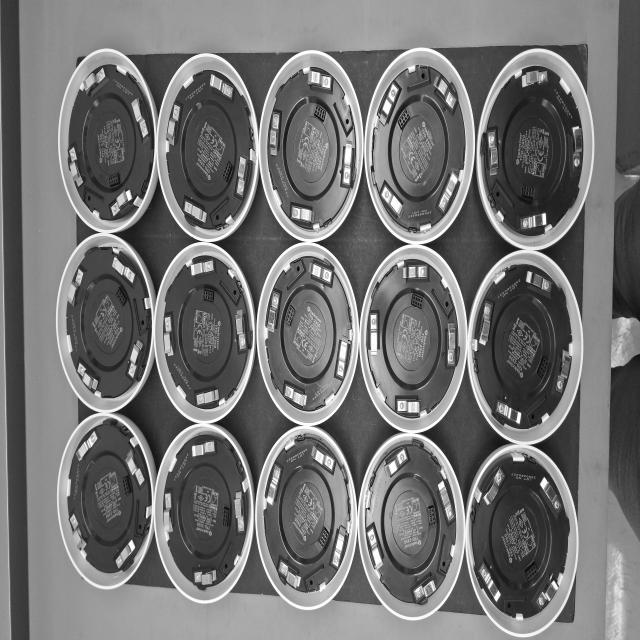yayli: (376, 80, 401, 126), (380, 180, 405, 221), (438, 170, 460, 216), (540, 473, 564, 514), (478, 562, 501, 604), (483, 466, 506, 507), (534, 574, 559, 610), (366, 524, 384, 570), (330, 524, 348, 570), (307, 258, 335, 287), (334, 337, 352, 382), (384, 446, 409, 478), (435, 73, 456, 111), (555, 351, 572, 397), (311, 443, 336, 474), (278, 558, 302, 590), (131, 98, 149, 140), (114, 537, 136, 570), (77, 429, 99, 462), (478, 301, 494, 346), (112, 256, 135, 287), (526, 270, 554, 295), (127, 339, 144, 380), (439, 480, 455, 523), (126, 450, 145, 486), (496, 400, 522, 426), (234, 154, 249, 199), (267, 288, 282, 333), (82, 68, 106, 96), (340, 141, 354, 189), (266, 464, 282, 506), (69, 513, 87, 550), (77, 361, 98, 392), (284, 382, 308, 409), (412, 575, 436, 602), (110, 189, 133, 217), (68, 267, 84, 307), (183, 198, 207, 224), (68, 146, 83, 186), (210, 74, 233, 100), (487, 128, 499, 176), (308, 69, 332, 93), (167, 105, 181, 146), (235, 308, 248, 352), (520, 212, 547, 233), (290, 202, 314, 225), (522, 69, 549, 89), (269, 111, 281, 156), (572, 126, 583, 171), (403, 262, 428, 281), (446, 323, 456, 369), (190, 259, 215, 277), (369, 311, 379, 355), (194, 568, 218, 586), (235, 490, 245, 532), (396, 397, 420, 414), (164, 316, 174, 356), (196, 389, 218, 407), (164, 492, 174, 531), (192, 443, 204, 457), (206, 440, 216, 453)
